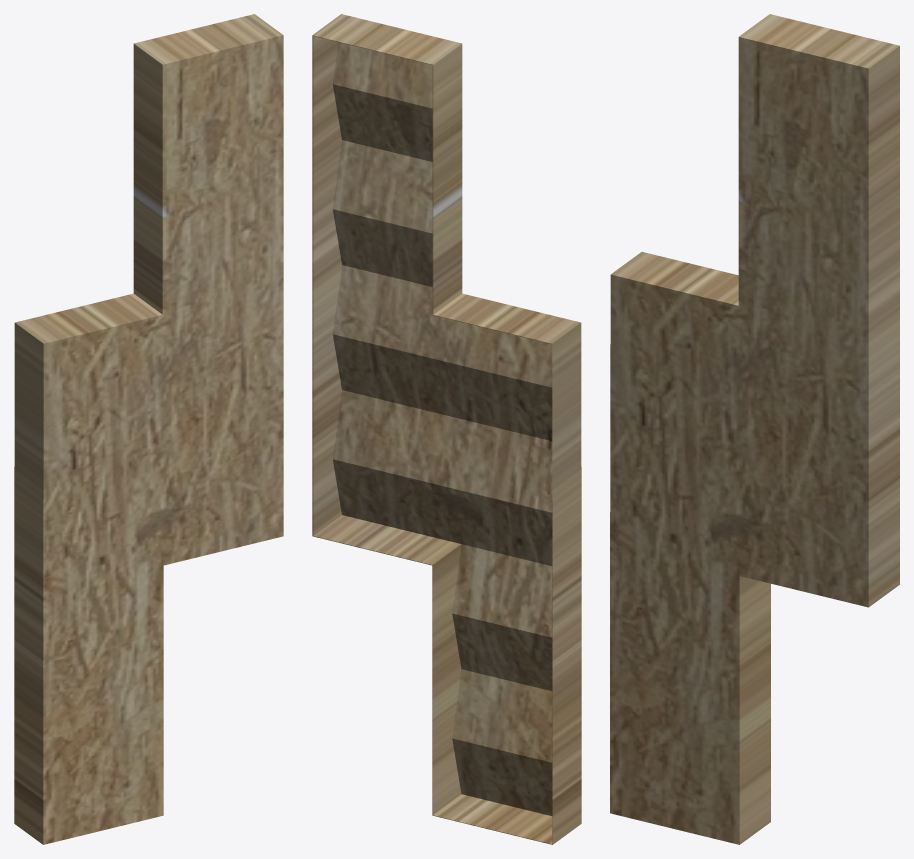
Rendered from continuous_ramp_plane.dae.
3 views of the same model, side by side, from view 1: azimuth 30°, elevation 25°; view 2: azimuth 150°, elevation 25°; view 3: azimuth 330°, elevation 25° (orthographic). The views are drawn at different scales.
Parts seen in each view (by area): view 1: Continuous Ramp Plane; view 2: Continuous Ramp Plane; view 3: Continuous Ramp Plane.
Boxes of the visible parts, x1,y1,x2,y2 form: Continuous Ramp Plane: (14,14,283,844); Continuous Ramp Plane: (312,14,581,844); Continuous Ramp Plane: (610,14,899,844).
Size of the model in its own units: 241 by 50.5 by 721.
Materials: 1 (1 with a texture image).
